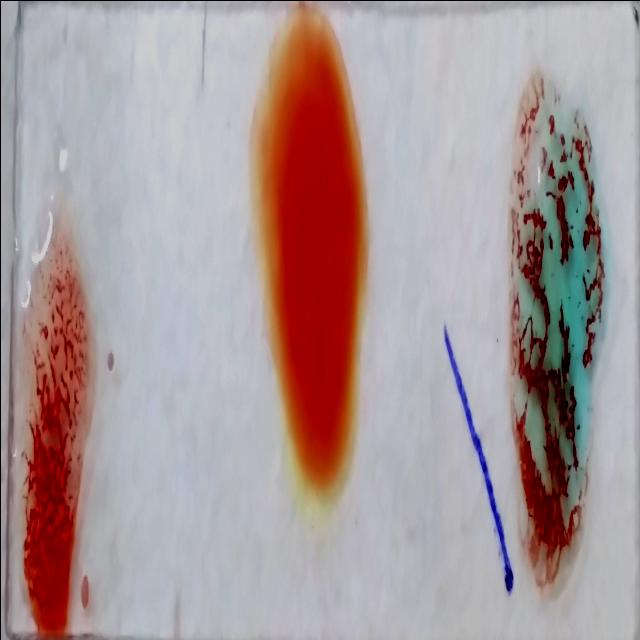A: (507, 62, 602, 566)
D: (14, 248, 96, 630)
